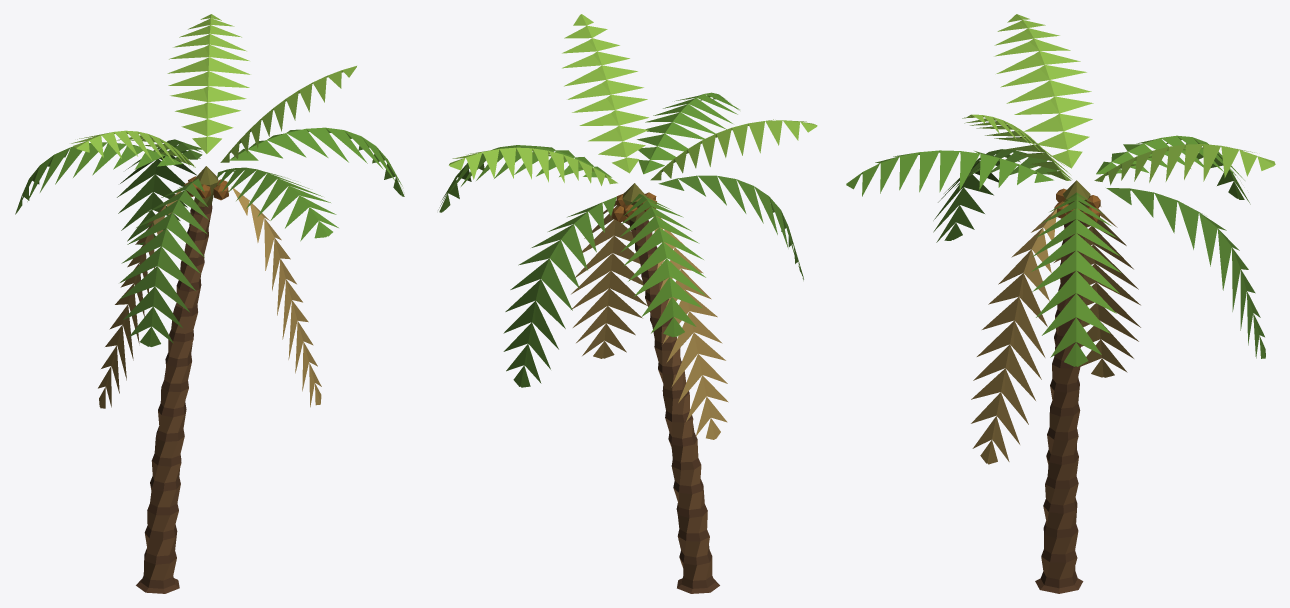
File: palm_full.glb
3 renders of one model, left to right at view 1: azimuth 30°, elevation 25°; view 2: azimuth 150°, elevation 25°; view 3: azimuth 270°, elevation 25°, orthographic. The views are drawn at different scales.
Visible parts, largest first — view 1: palm_full; view 2: palm_full; view 3: palm_full.
Boxes of the visible parts, x1=… form: palm_full: x1=15, y1=14, x2=404, y2=593; palm_full: x1=438, y1=14, x2=817, y2=593; palm_full: x1=846, y1=14, x2=1275, y2=593.
Size of the model in its own units: 6.07 by 8.39 by 5.91.
